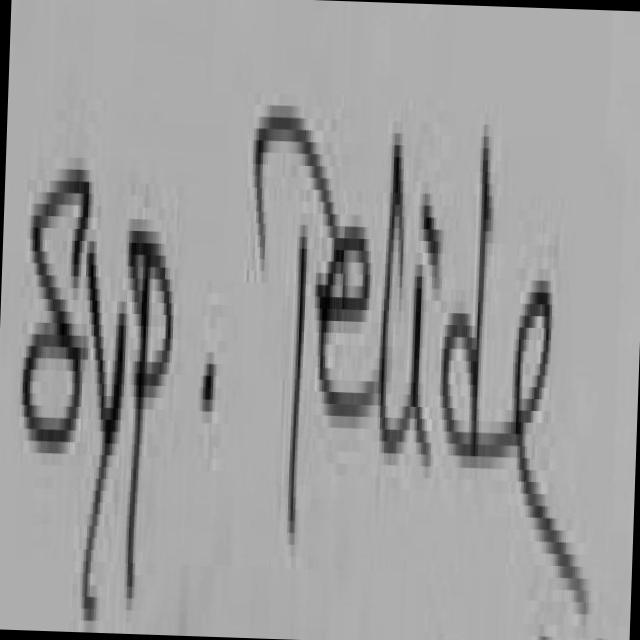S: (20, 151, 92, 467)
T: (251, 112, 340, 538)
d: (440, 136, 490, 476)
e: (516, 290, 588, 616), (315, 226, 376, 439)
i: (396, 272, 434, 485), (424, 211, 439, 271)
l: (380, 145, 406, 436)
p: (125, 230, 173, 601)
y: (82, 241, 126, 614)
